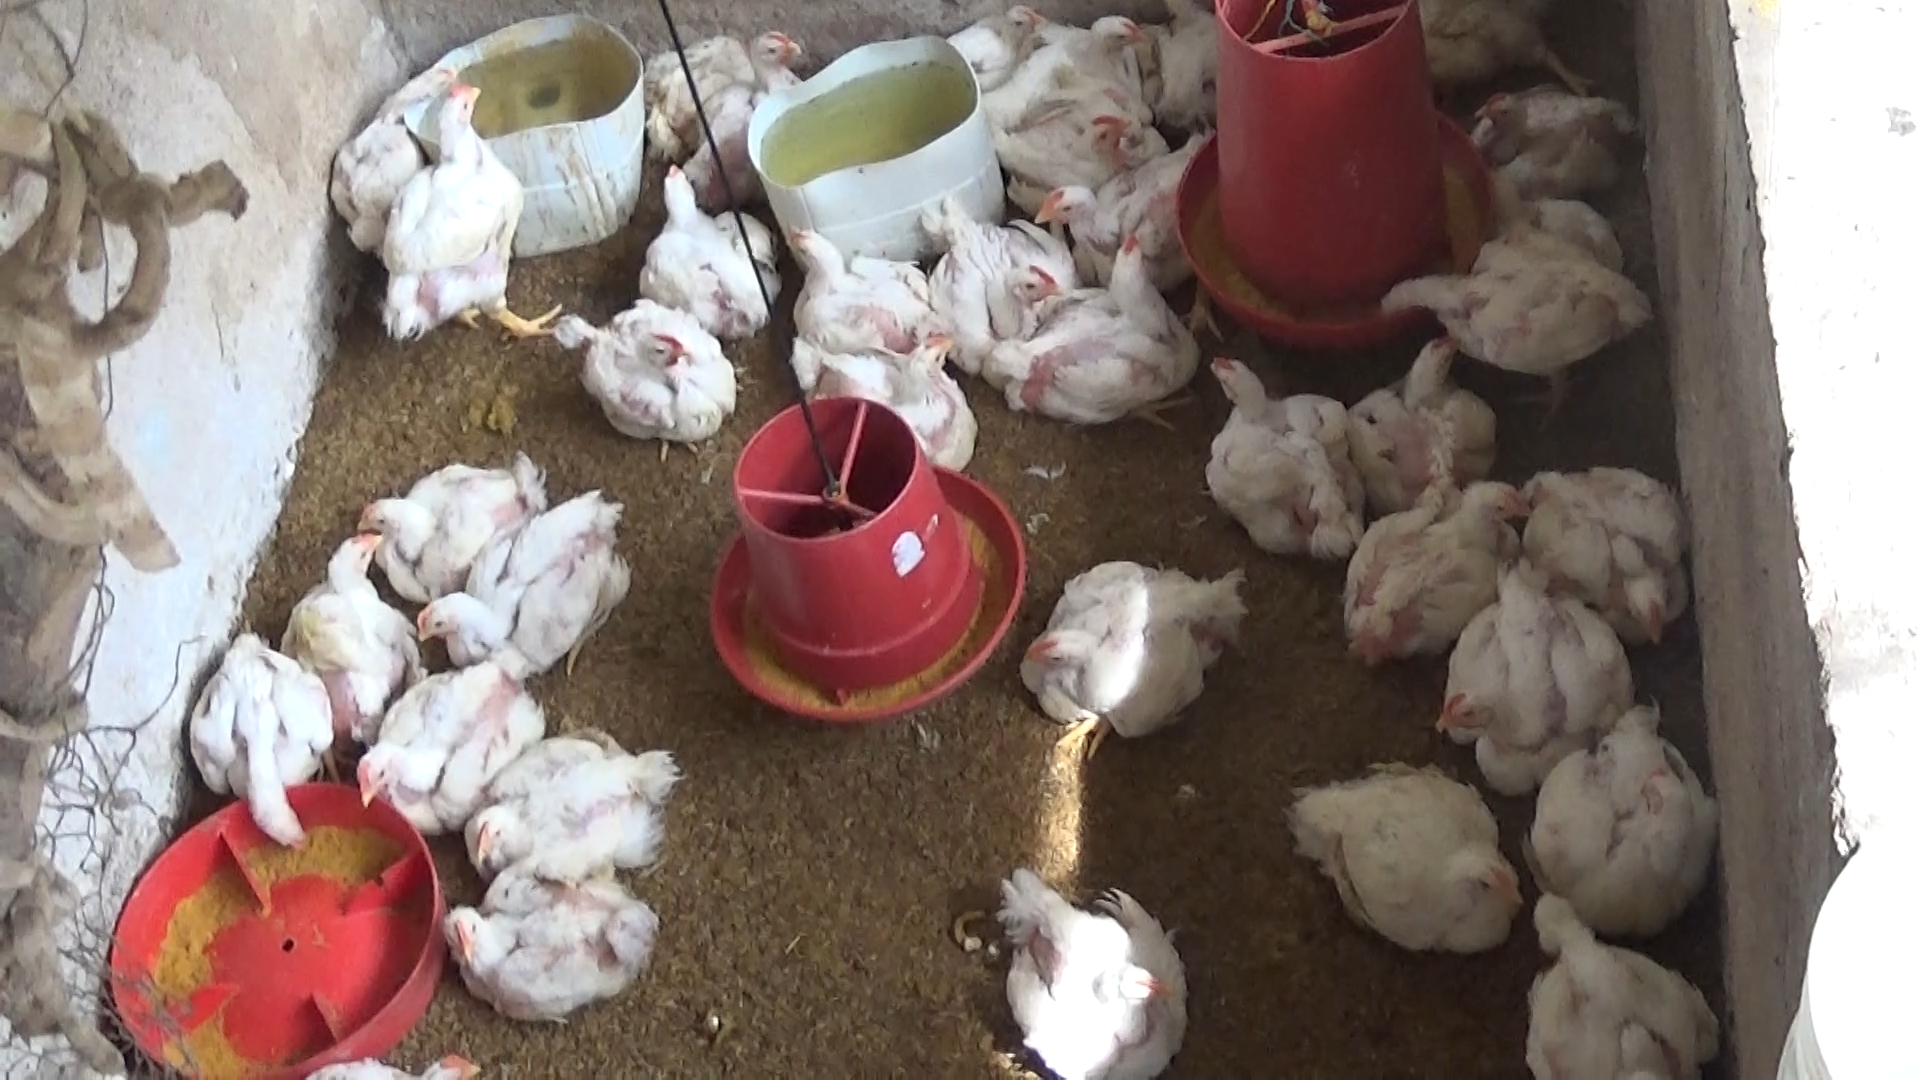Pollos: (372, 69, 564, 367), (1269, 756, 1536, 957), (1015, 545, 1250, 757), (410, 473, 637, 688), (976, 862, 1197, 1080), (1425, 572, 1633, 785), (1505, 884, 1727, 1080), (976, 228, 1196, 422), (1531, 698, 1717, 923), (1375, 243, 1646, 396), (1331, 477, 1526, 676), (436, 868, 665, 1036), (1196, 348, 1354, 576), (458, 732, 680, 891), (182, 618, 331, 855), (349, 676, 539, 847), (1520, 462, 1695, 646), (353, 438, 545, 603), (284, 524, 415, 737), (795, 326, 978, 479), (571, 293, 738, 458), (1354, 334, 1505, 508), (924, 204, 1071, 382), (632, 161, 778, 334), (773, 220, 948, 353), (682, 25, 822, 178), (1022, 164, 1189, 289), (1458, 76, 1636, 191), (986, 15, 1167, 125), (324, 94, 436, 251), (996, 117, 1182, 208), (965, 4, 1062, 70)
